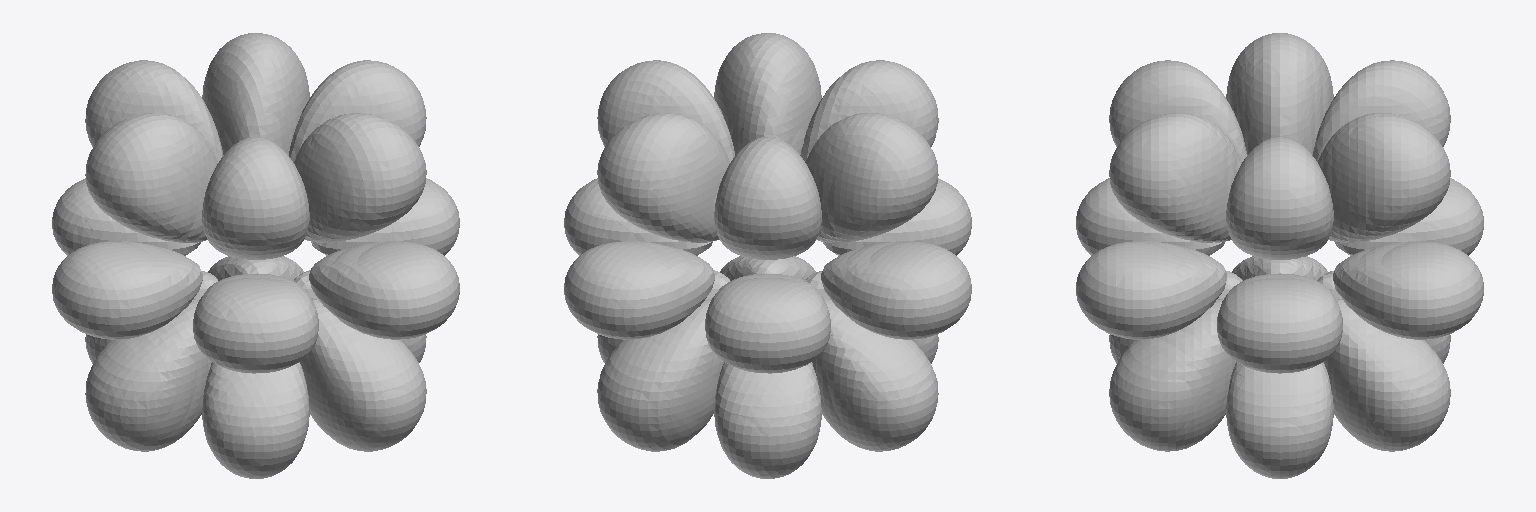
The model's file is orb_n=6_ l=5 _m=3.obj.
3 views of the same model, side by side, from view 1: azimuth 30°, elevation 25°; view 2: azimuth 150°, elevation 25°; view 3: azimuth 270°, elevation 25° (orthographic).
Visible parts, largest first — view 1: orb_n=6__l=5__m=3; view 2: orb_n=6__l=5__m=3; view 3: orb_n=6__l=5__m=3.
Boxes of the visible parts, box(x1,y1,x2,y2) form: orb_n=6__l=5__m=3: box(52, 33, 459, 478); orb_n=6__l=5__m=3: box(564, 33, 971, 478); orb_n=6__l=5__m=3: box(1076, 33, 1483, 478).
Size of the model in its own units: 125 by 101 by 114.